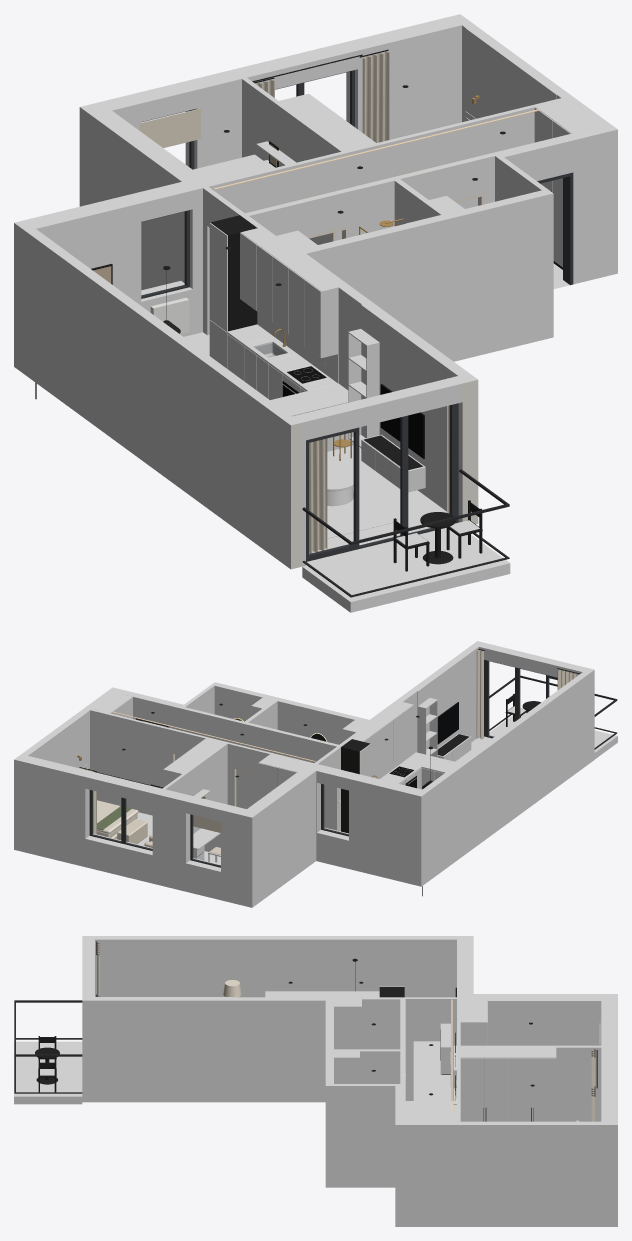
File: styl1-day.glb
3 views of the same model, one above another, from view 1: azimuth 30°, elevation 25°; view 2: azimuth 150°, elevation 25°; view 3: azimuth 270°, elevation 25° (orthographic). The views are drawn at different scales.
Visible parts, largest first — view 1: baked; view 2: baked; view 3: baked.
Boxes of the visible parts, x1,y1,x2,y2 form: baked: (14,14,617,612); baked: (14,641,617,907); baked: (14,936,617,1226).
Bounding box in the file's own units: 10.76 × 3.19 × 14.53.
